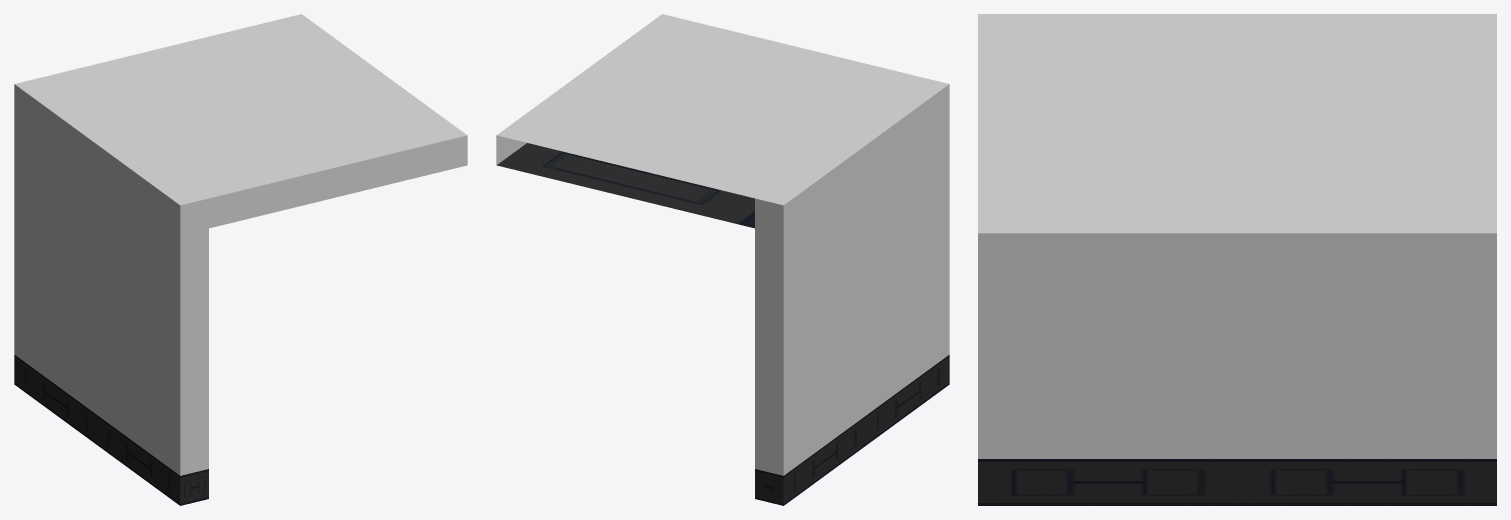
The model's file is tiles_wall_door_top_ceiling.glb.
3 renders of one model, left to right at view 1: azimuth 30°, elevation 25°; view 2: azimuth 150°, elevation 25°; view 3: azimuth 270°, elevation 25°, orthographic. The views are drawn at different scales.
Visible parts, largest first — view 1: Wall_Roof_West_Door; view 2: Wall_Roof_West_Door; view 3: Wall_Roof_West_Door.
Part boxes in pixels (x1=…): Wall_Roof_West_Door: x1=14, y1=14, x2=467, y2=505; Wall_Roof_West_Door: x1=496, y1=14, x2=949, y2=505; Wall_Roof_West_Door: x1=978, y1=14, x2=1496, y2=505.
Size of the model in its own units: 2 by 2 by 2.
Materials: 2 (1 with a texture image).
